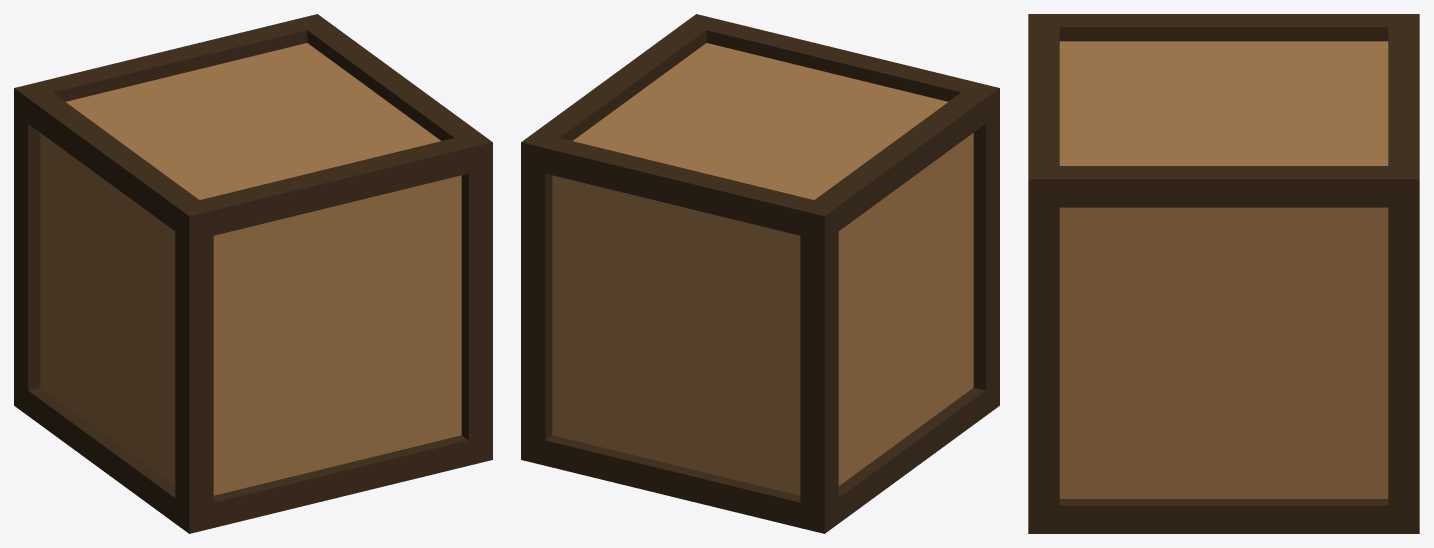
The model's file is crate.glb.
3 renders of one model, left to right at view 1: azimuth 30°, elevation 25°; view 2: azimuth 150°, elevation 25°; view 3: azimuth 270°, elevation 25°, orthographic. The views are drawn at different scales.
Visible parts, largest first — view 1: crate-col; view 2: crate-col; view 3: crate-col.
Boxes of the visible parts, x1,y1,x2,y2 form: crate-col: [14, 14, 492, 533]; crate-col: [521, 14, 999, 533]; crate-col: [1028, 14, 1419, 533].
Size of the model in its own units: 1 by 1 by 1.
